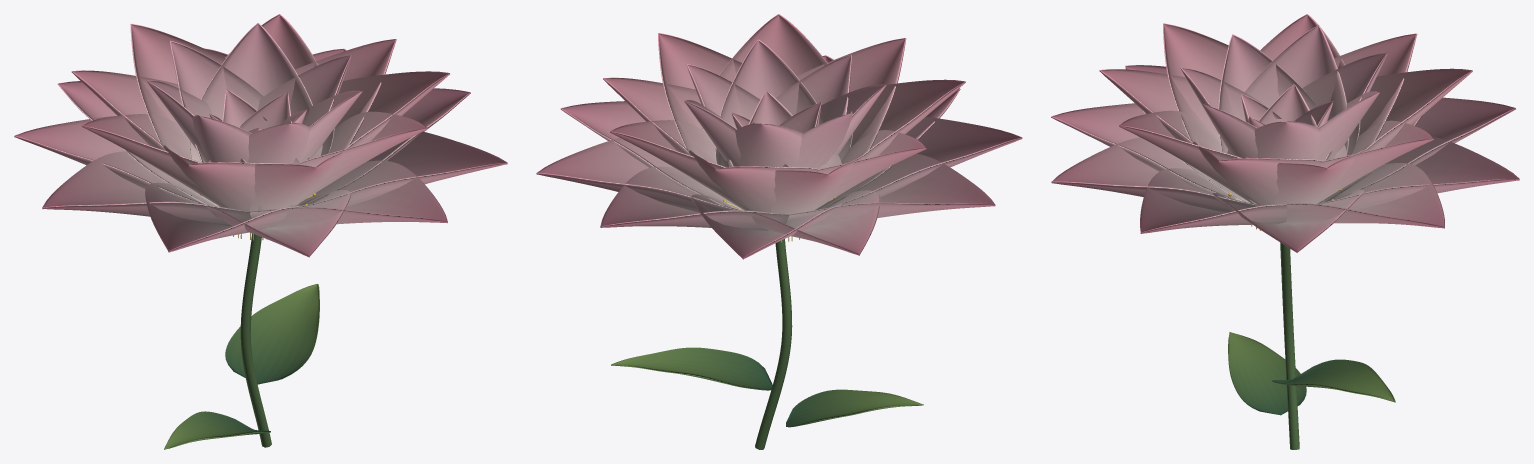
The model's file is lotus.glb.
3 renders of one model, left to right at view 1: azimuth 30°, elevation 25°; view 2: azimuth 150°, elevation 25°; view 3: azimuth 270°, elevation 25°, orthographic. The views are drawn at different scales.
Visible parts, largest first — view 1: 荷花 (×29); view 2: 荷花 (×29); view 3: 荷花 (×30).
Part boxes in pixels (box(x1,y1,x2,y2)): 荷花 (×29): box(14, 14, 507, 449); 荷花 (×29): box(536, 14, 1022, 449); 荷花 (×30): box(1051, 14, 1519, 449).
Size of the model in its own units: 1.17 by 0.9711 by 1.1.
